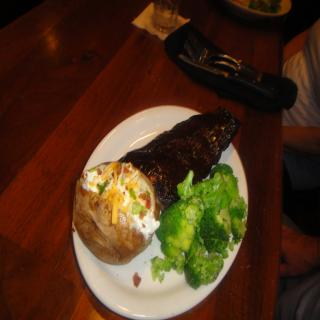Broccoli: (149, 162, 248, 290), (176, 171, 194, 201)
